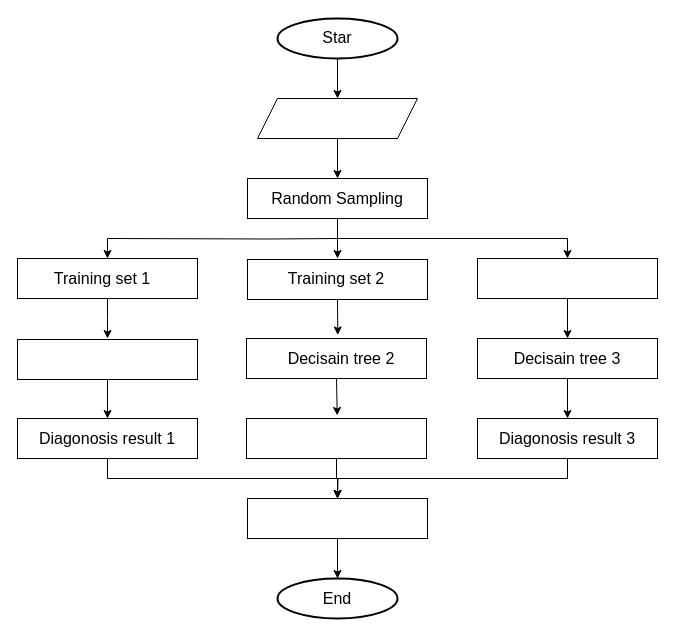
Image size: 675x636. Some labels were removed from this diagram. Each missing label, with the centre of its shape:
"Decisain tree 1" goes at pixel 107 359.
"Diagonosis result 2" goes at pixel 336 438.
"Final Result" goes at pixel 337 518.
"Original DataSet" goes at pixel 337 118.
"Training set 3" goes at pixel 567 278.
